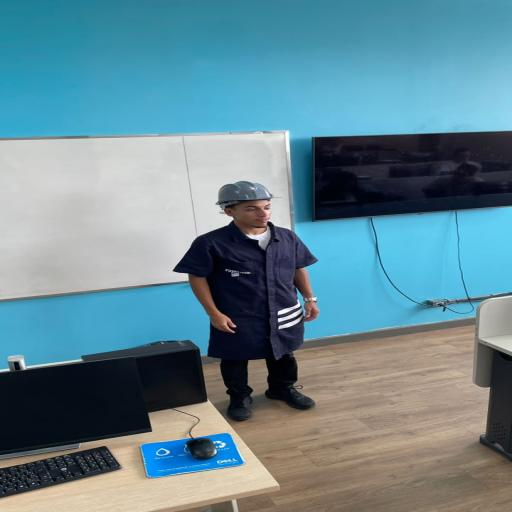CAPACETE: (216, 181, 282, 208)
